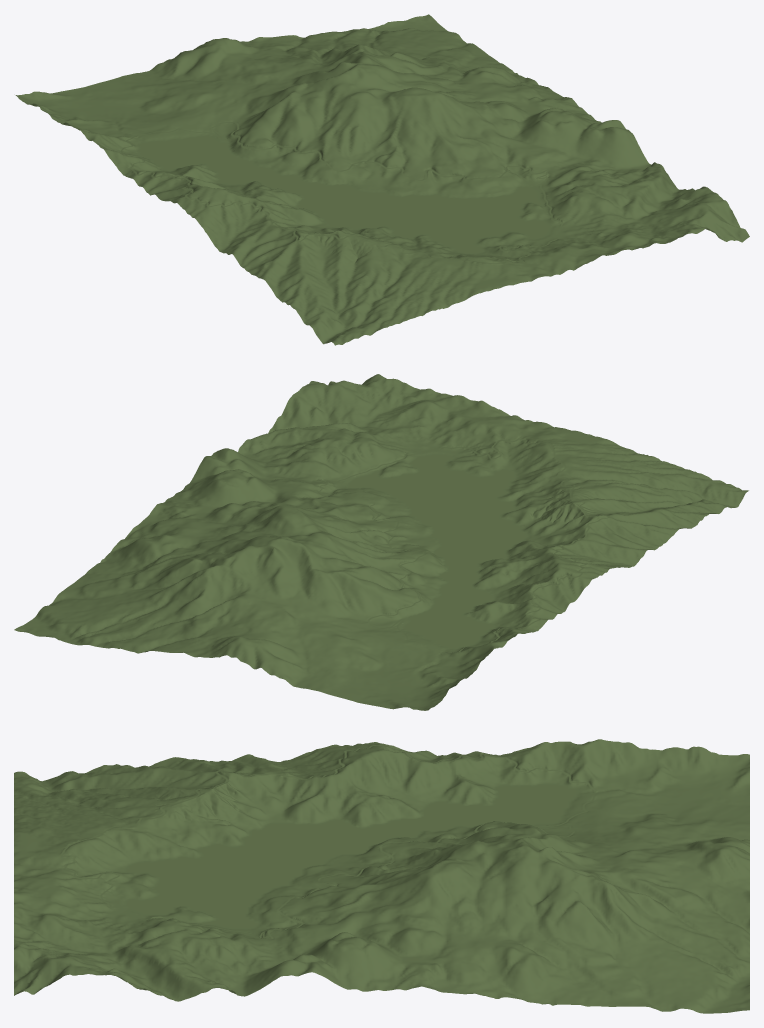
File: world-v4-00.glb
3 views of the same model, one above another, from view 1: azimuth 30°, elevation 25°; view 2: azimuth 150°, elevation 25°; view 3: azimuth 270°, elevation 25° (orthographic). The views are drawn at different scales.
Visible parts, largest first — view 1: Adaptive DEM terrain | measured source + 4m hero interpolati; view 2: Adaptive DEM terrain | measured source + 4m hero interpolati; view 3: Adaptive DEM terrain | measured source + 4m hero interpolati.
Part boxes in pixels (<box>): Adaptive DEM terrain | measured source + 4m hero interpolati: <box>15,14,749,345</box>; Adaptive DEM terrain | measured source + 4m hero interpolati: <box>14,374,748,710</box>; Adaptive DEM terrain | measured source + 4m hero interpolati: <box>14,739,749,1013</box>.
Bounding box in the file's own units: 6682 × 981 × 8961.
